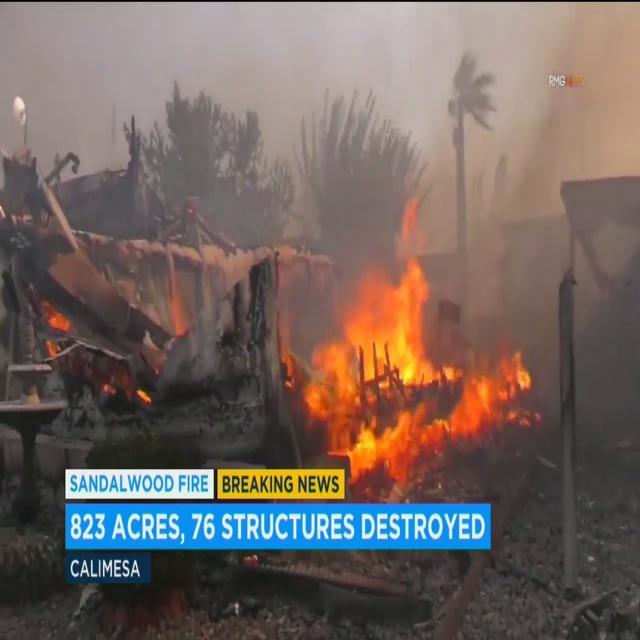Fire: (292, 213, 535, 477)
Smoke: (414, 2, 640, 326)
